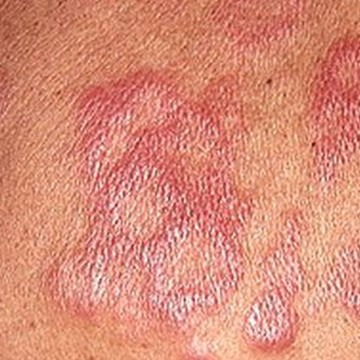Leprosy: (52, 64, 246, 322), (237, 0, 359, 185), (239, 198, 359, 359)
